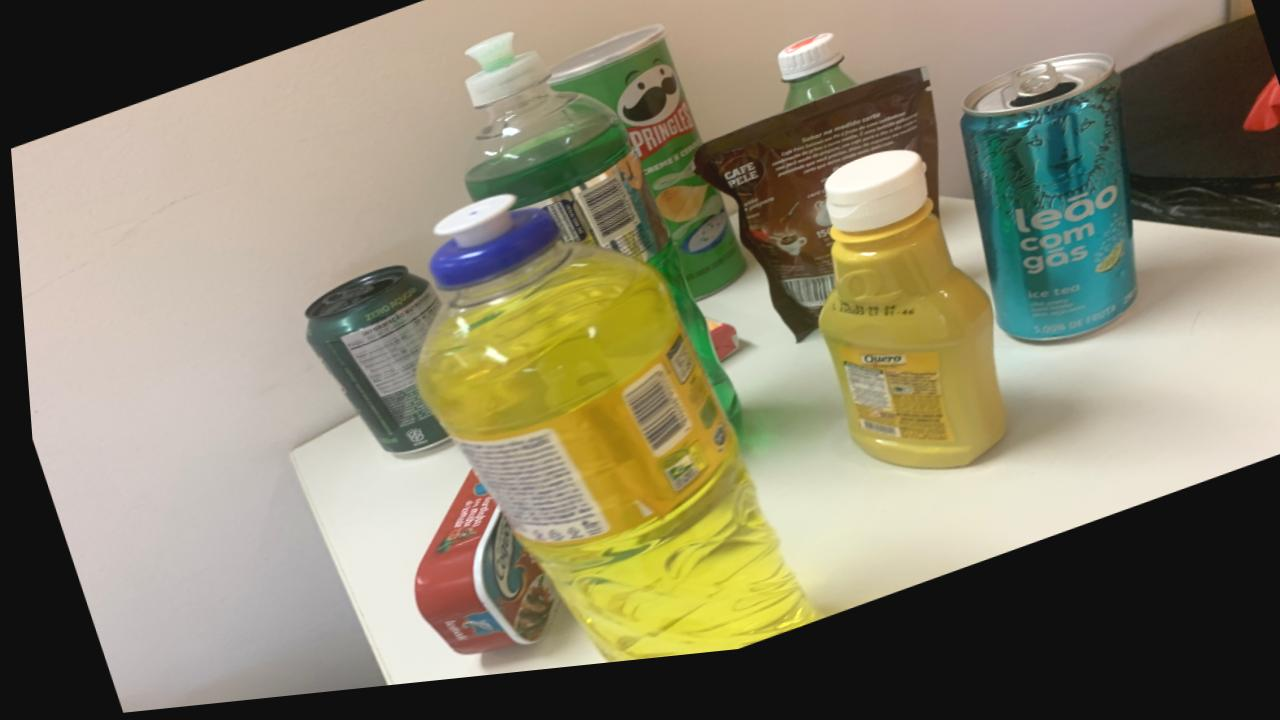Coffee-Pantry_Items: (690, 87, 935, 358)
Detergent-Cleanup_Items: (410, 204, 805, 675), (461, 43, 733, 437)
Guarana-Drinks: (957, 77, 1132, 365), (775, 51, 853, 127)
Guarana_Can-Drinks: (300, 274, 440, 463)
Mustard-Pantry_Items: (813, 169, 998, 488)
Pringles-Snacks: (548, 38, 740, 314)
Tuna_Can-Pantry_Items: (404, 482, 548, 663)
